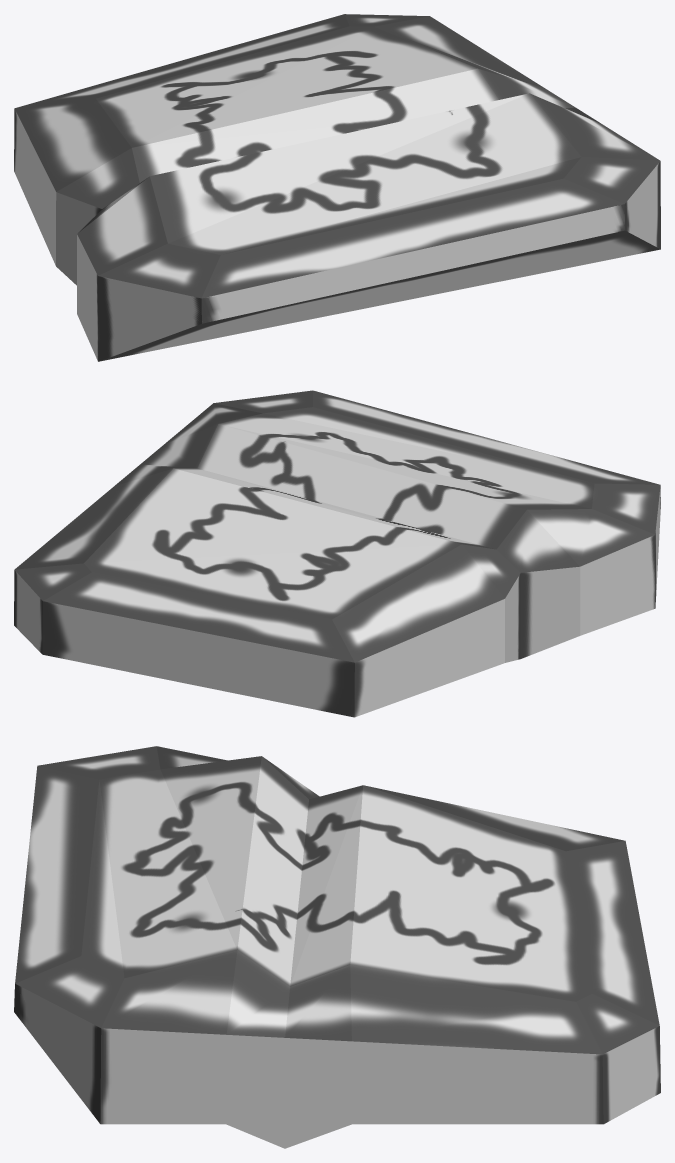
The model's file is Stone3.fbx.
The picture shows the model from 3 angles, top to bottom: view 1: azimuth 30°, elevation 25°; view 2: azimuth 150°, elevation 25°; view 3: azimuth 270°, elevation 25°; orthographic projection. The views are drawn at different scales.
Parts seen in each view (by area): view 1: Stone3; view 2: Stone3; view 3: Stone3.
Part boxes in pixels (left/top/right/bottom): Stone3: left=14, top=14, right=660, bottom=361; Stone3: left=14, top=390, right=660, bottom=717; Stone3: left=14, top=746, right=660, bottom=1148.
Size of the model in its own units: 54.79 by 14.54 by 52.55.
Materials: 1 (1 with a texture image).
